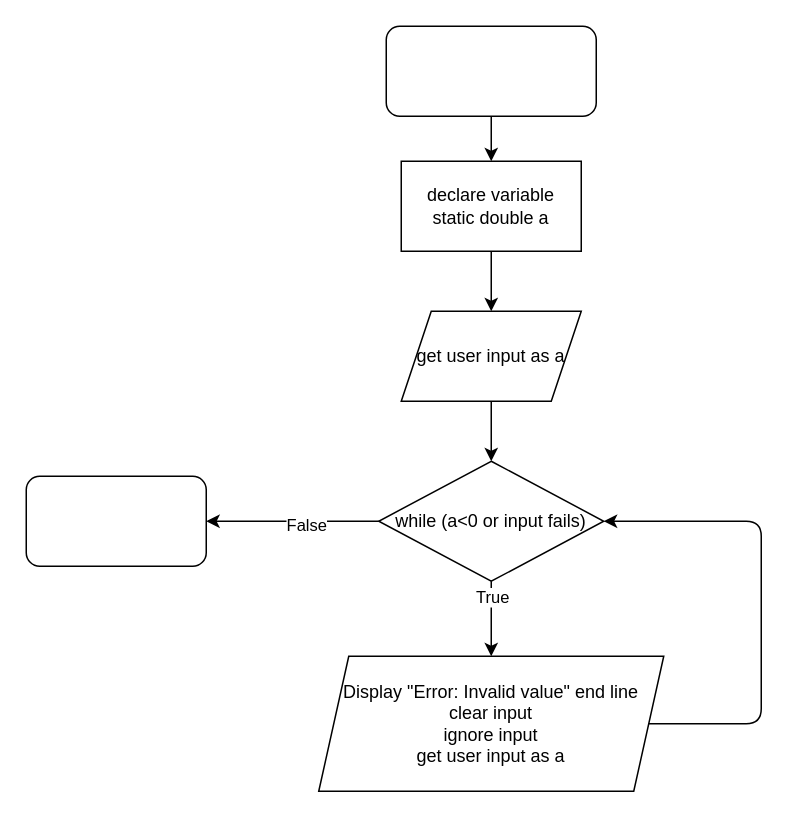
Some shapes in this 800 by 818 pixel diagram are drawn without their labels. The centre of each missing label's shape, as x and y in pixels:
"End Function return a" belongs at [115,520].
"getValue" belongs at [490,70].
